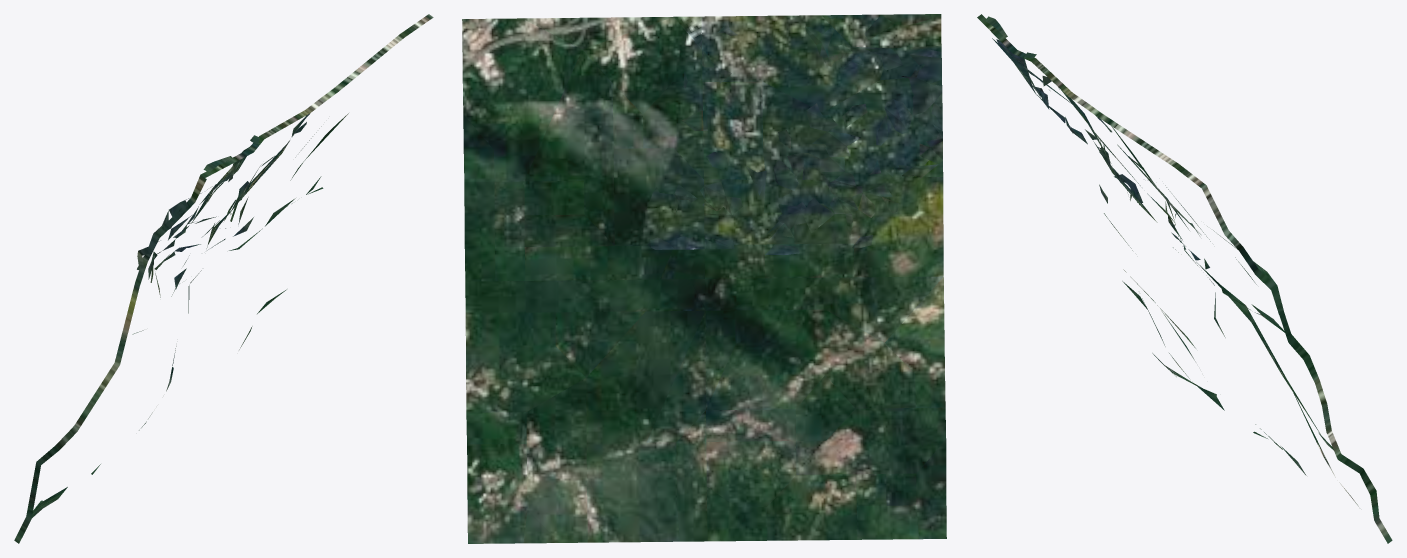
3 renders of one model, left to right at view 1: azimuth 30°, elevation 25°; view 2: azimuth 150°, elevation 25°; view 3: azimuth 270°, elevation 25°, orthographic. The views are drawn at different scales.
Bounding box in the file's own units: 4970 × 4488 × 4105.
1 material, 1 textured.
